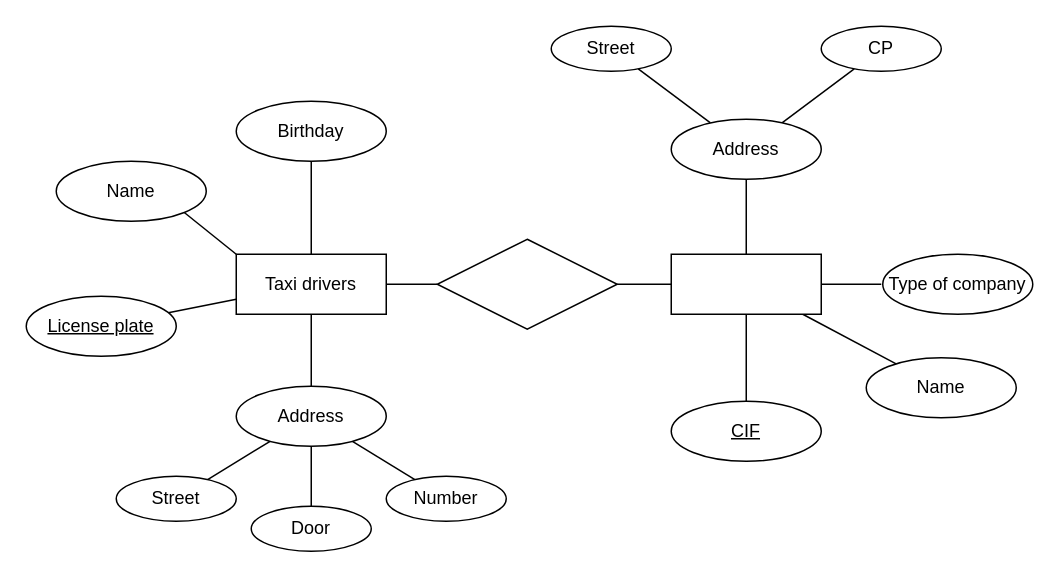
The diagram is 1059 pixels wide and 578 high, and some of its shapes have lost their labels. The shapes that lost their labels are listed below. From the top down, each one's centre as x and y in pixels, then its label:
At [526,283]: "works in".
At [745,283]: "Company".
